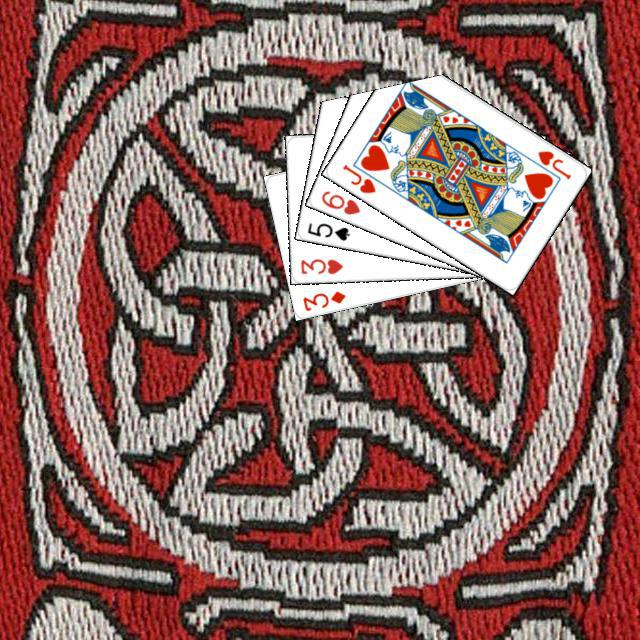3d: (298, 286, 347, 313)
3h: (296, 254, 345, 276)
5s: (302, 218, 351, 242)
6h: (316, 186, 362, 216)
Jh: (533, 145, 573, 181), (338, 159, 377, 195)
